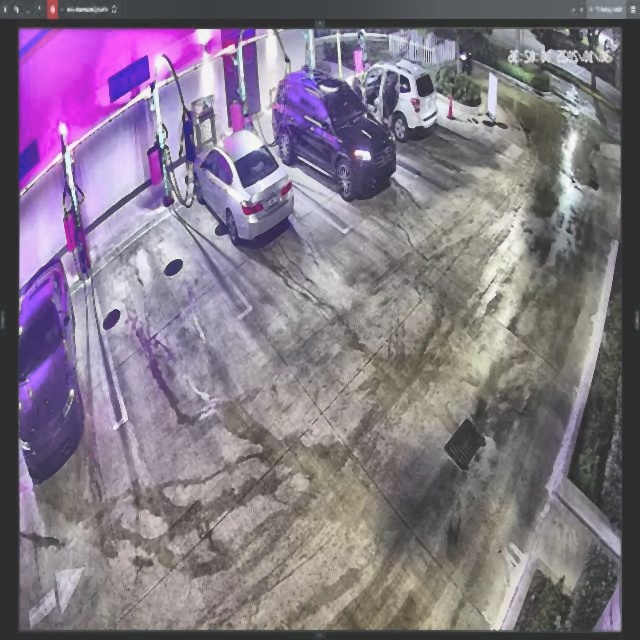Car: (272, 70, 396, 189), (194, 129, 293, 249)
